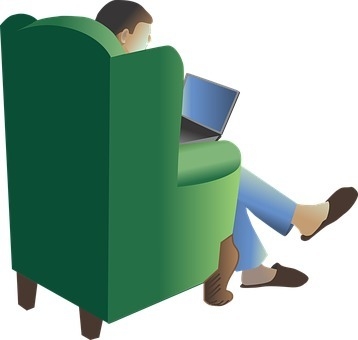person: (92, 3, 357, 295)
sofa: (2, 17, 236, 333)
